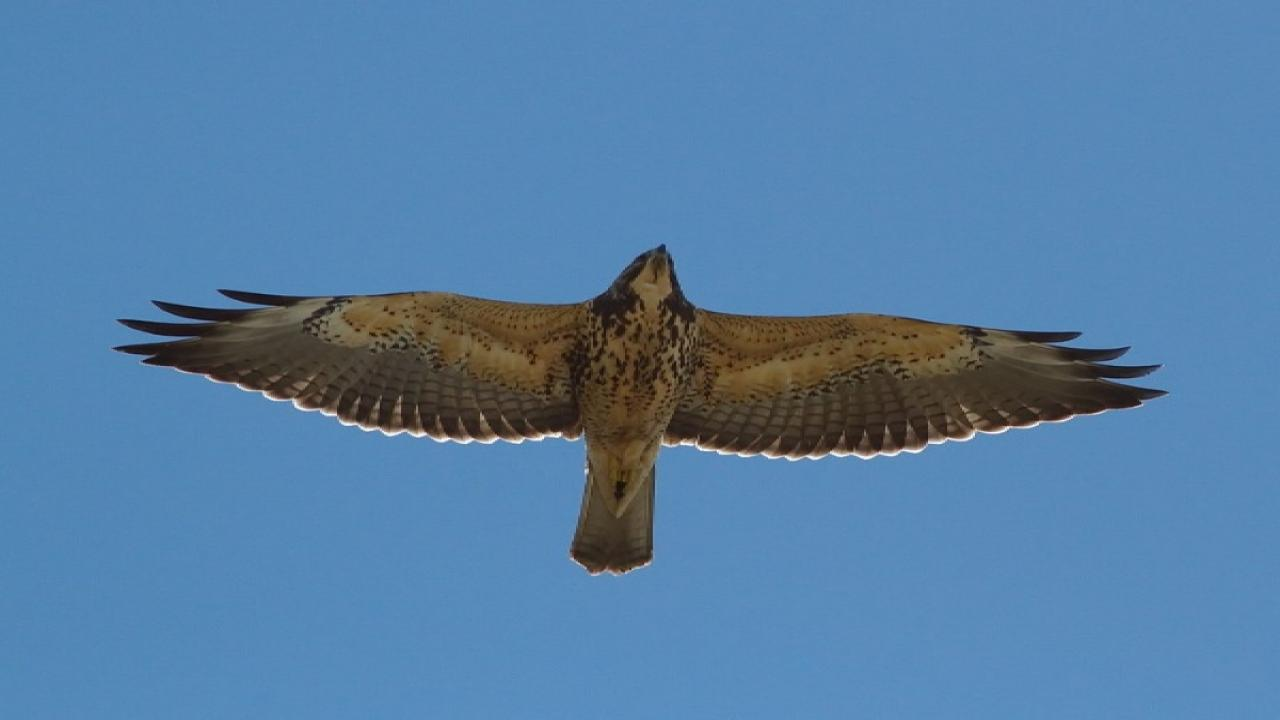Bird: (99, 236, 1188, 584)
